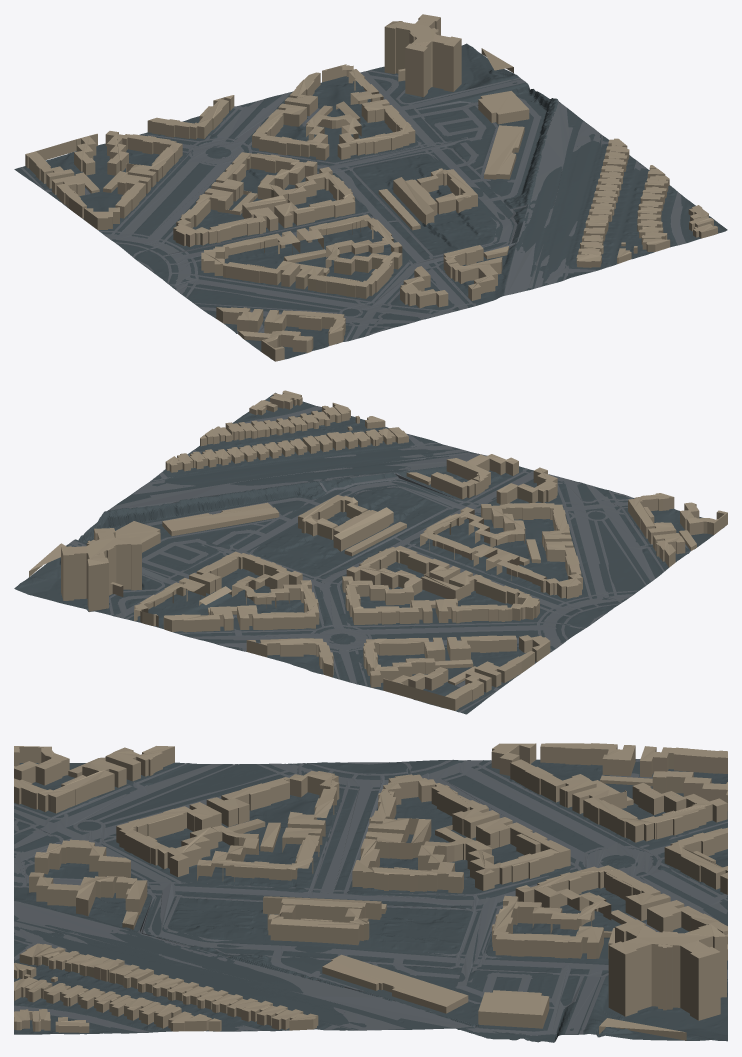
Rendered from epsg26910-1422-10871.lod0.glb.
3 renders of one model, top to bottom at view 1: azimuth 30°, elevation 25°; view 2: azimuth 150°, elevation 25°; view 3: azimuth 270°, elevation 25°, orthographic. The views are drawn at different scales.
Parts seen in each view (by area): view 1: epsg26910-1422-10871-lod0; view 2: epsg26910-1422-10871-lod0; view 3: epsg26910-1422-10871-lod0.
Part boxes in pixels (bbox=[...]): epsg26910-1422-10871-lod0: bbox=[14, 14, 727, 361]; epsg26910-1422-10871-lod0: bbox=[14, 390, 727, 714]; epsg26910-1422-10871-lod0: bbox=[14, 743, 727, 1042].
Size of the model in its own units: 384 by 49.83 by 384.
